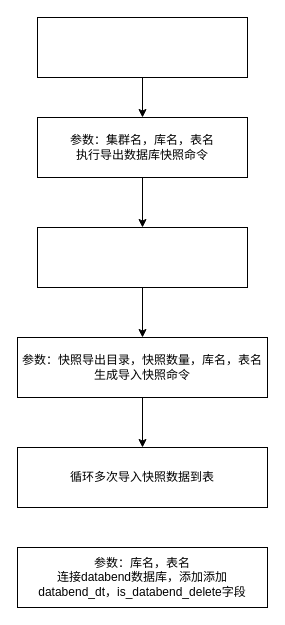
Image size: 285x625. Some labels were removed from this diagram. Each missing label, with the centre of its shape:
aws申请role，和设置aws access key等环境变量: pixel 142 47
轮训检查快照是否导出完毕: pixel 142 257
